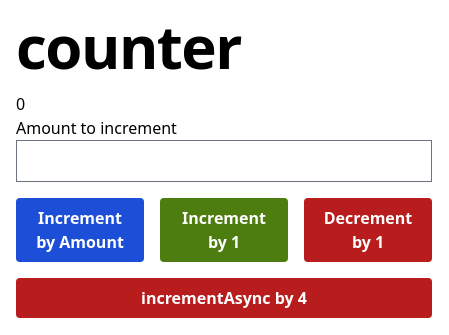
Test case: load home page › loads and displays CounterComponent
Expected: the heading with test id "counter" reads "counter", [16, 5, 241, 87]
Expected: the heading with test id "currentNumber" reads "0", [16, 93, 25, 115]
Type "10" into the field with test id "incrementAmount" at (224, 161), box [16, 140, 432, 182]
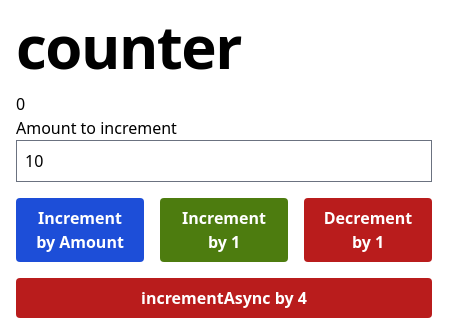
Click the button with test id "incrementAmountButton" at (80, 230), box [16, 198, 144, 262]
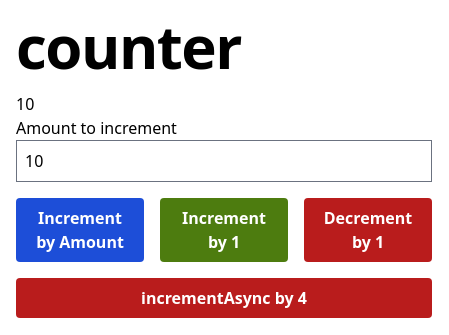
Expected: the heading with test id "currentNumber" reads "10", [16, 93, 34, 115]
Click the button with test id "incrementAmountBy1" at (224, 230), box [160, 198, 288, 262]
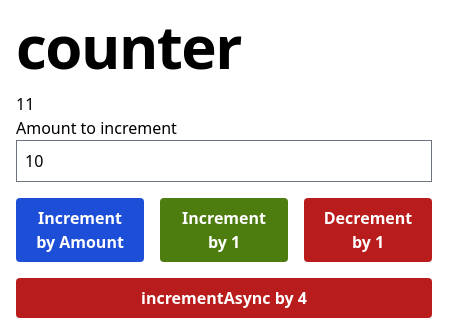
Expected: the heading with test id "currentNumber" reads "11", [16, 93, 34, 115]
Click the button with test id "decrementAmountBy1" at (368, 230), box [304, 198, 432, 262]
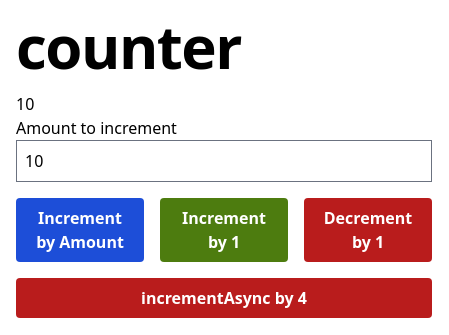
Expected: the heading with test id "currentNumber" reads "10", [16, 93, 34, 115]
Click the button with test id "incrementAsync" at (224, 298), box [16, 278, 432, 318]
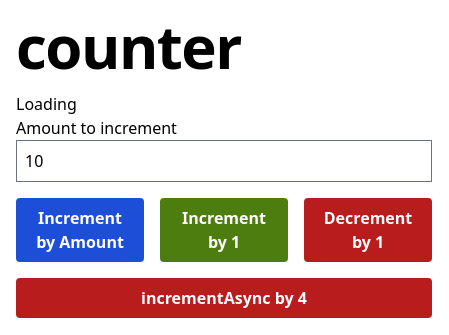
Expected: the heading with test id "currentNumber" reads "Loading", [16, 93, 77, 115]
